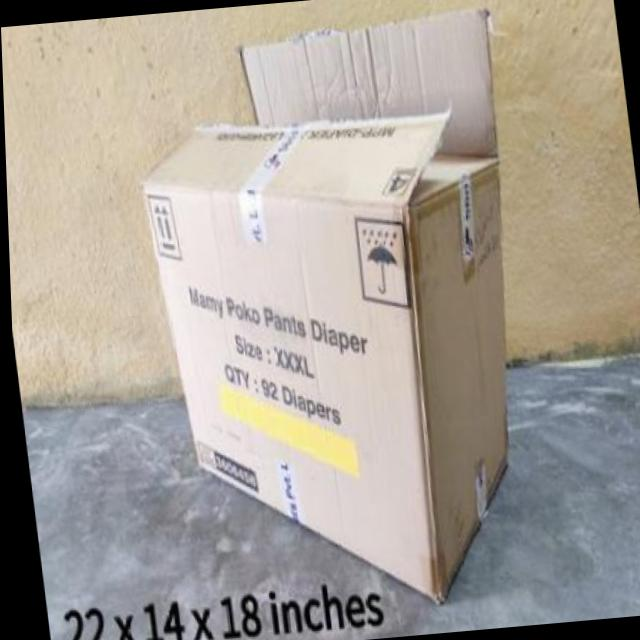box: (115, 4, 580, 623)
